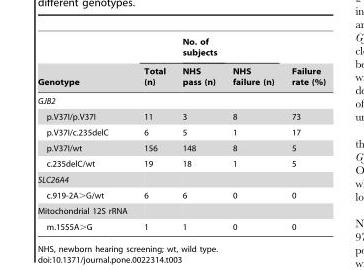table: (37, 37, 325, 230)
table column: (37, 37, 134, 230), (224, 37, 282, 230), (173, 37, 224, 230), (282, 37, 325, 230), (134, 37, 173, 230)
table column header: (37, 37, 325, 91)
table projected row header: (37, 91, 325, 108), (37, 171, 325, 187), (37, 203, 325, 218)
table row: (37, 61, 325, 91), (37, 37, 325, 61), (37, 91, 325, 108), (37, 108, 325, 124), (37, 124, 325, 140), (37, 155, 325, 171), (37, 171, 325, 187), (37, 187, 325, 203), (37, 140, 325, 155), (37, 203, 325, 218), (37, 218, 325, 230)
table spanning cell: (37, 37, 134, 91), (224, 37, 282, 91), (173, 37, 224, 91), (282, 37, 325, 91), (134, 37, 173, 91)
